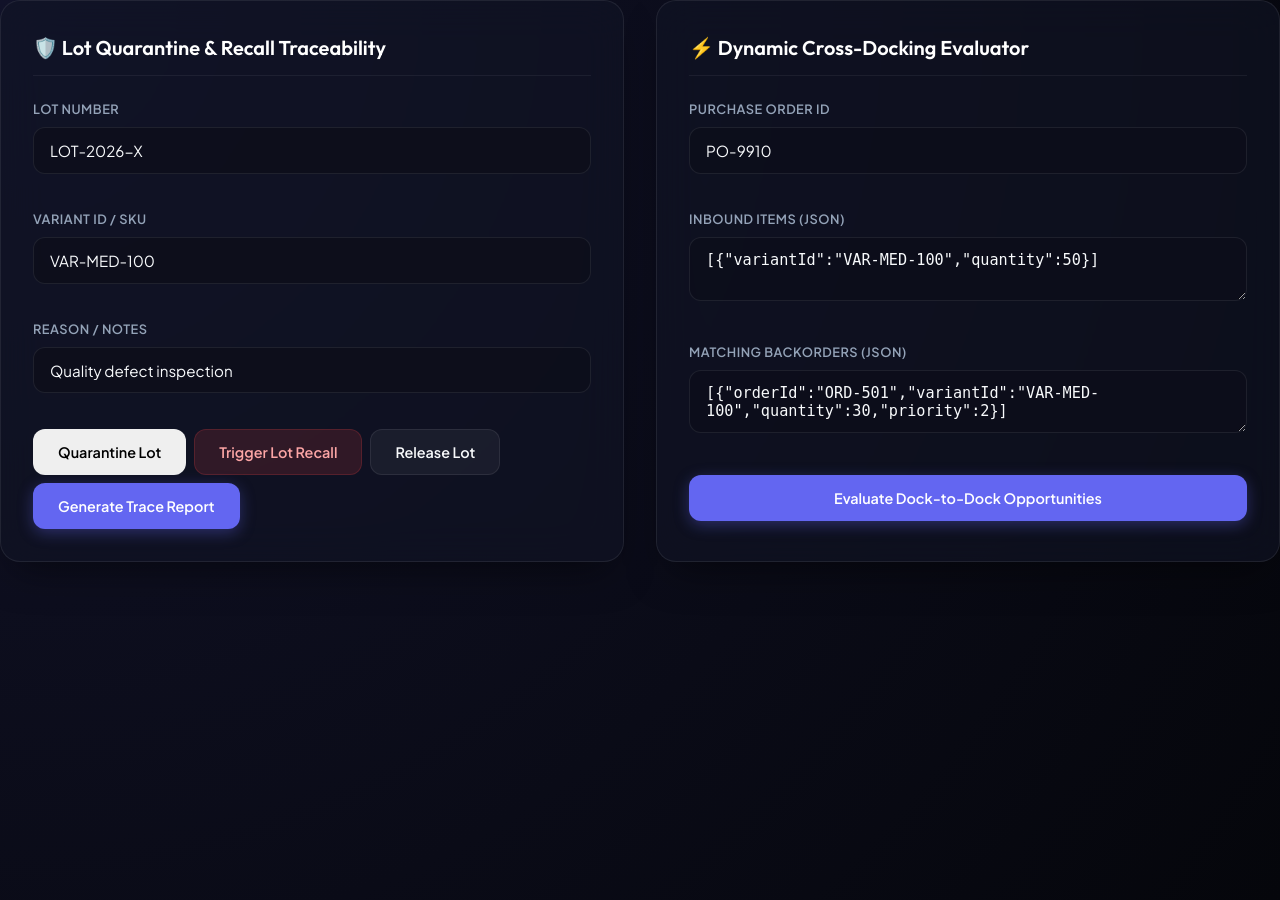
it: LotManagementPanel › handles recall action successfully
Click the button "Trigger Lot Recall" at coordinates (278, 452), box [194,429,362,475]
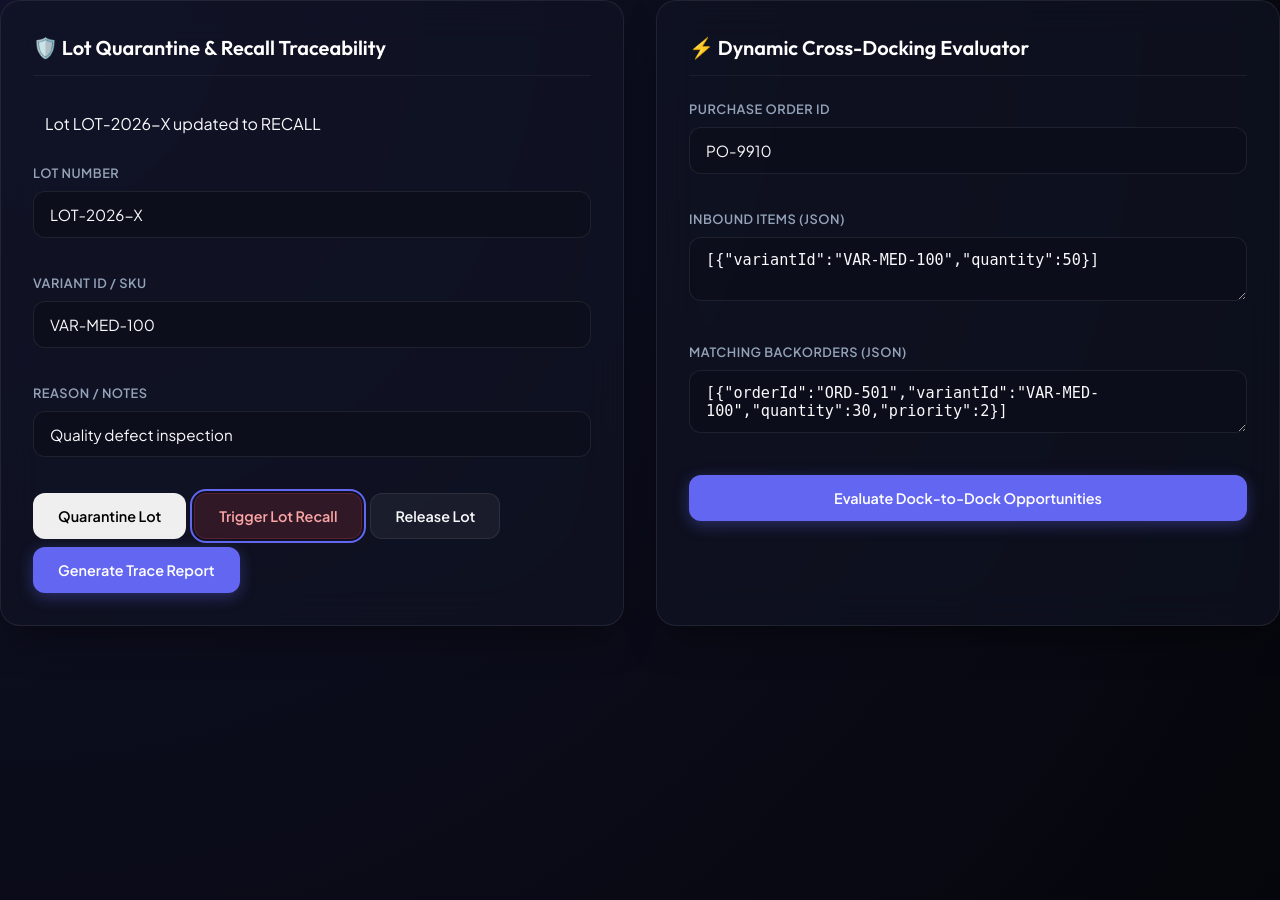
Expected: the text "Lot LOT-2026-X updated to RECALL" is shown, [45,113,321,134]
